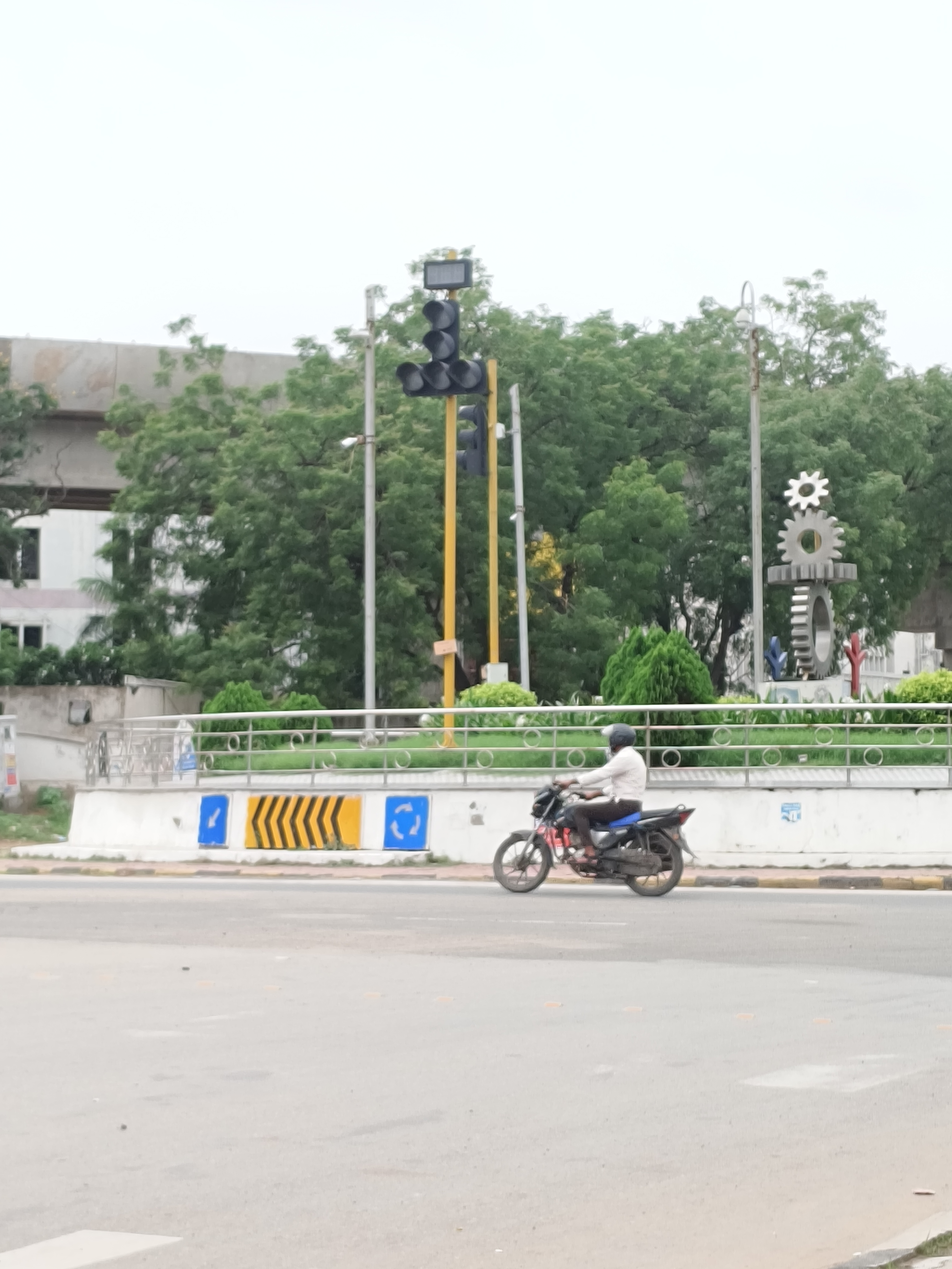BikeWithRider: (482, 718, 706, 902)
Helmet: (600, 720, 642, 758)
